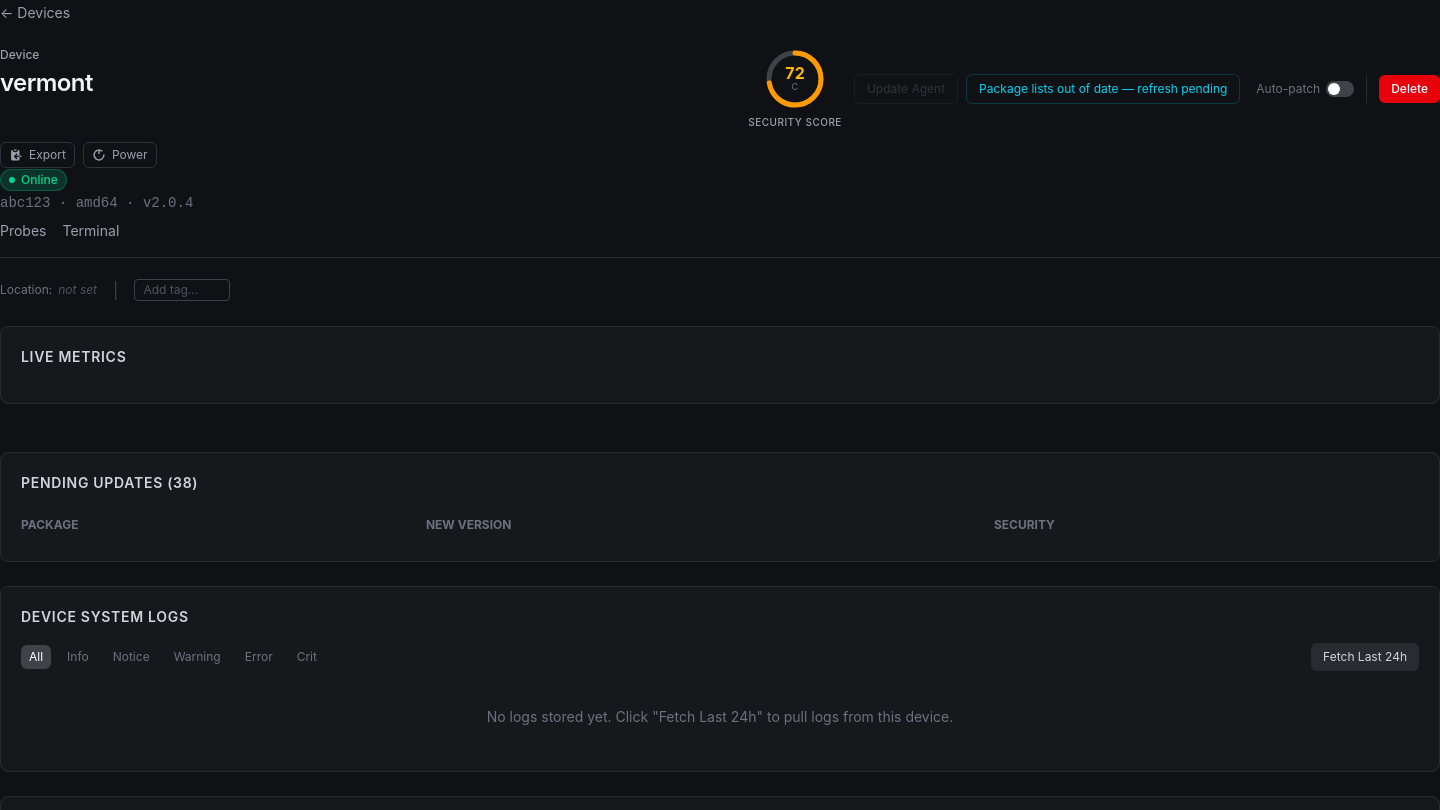
[PATCH-FLOW-001 AC-027] stale package lists › replaces Patch (N) with the stale label, shows no number, and stays usable
Check: the heading "vermont" is shown, box top-left (0, 68), bottom-right (93, 97)
Click the button "Package lists out of date — refresh pending": (1103,88) top-left (966, 74), bottom-right (1240, 104)
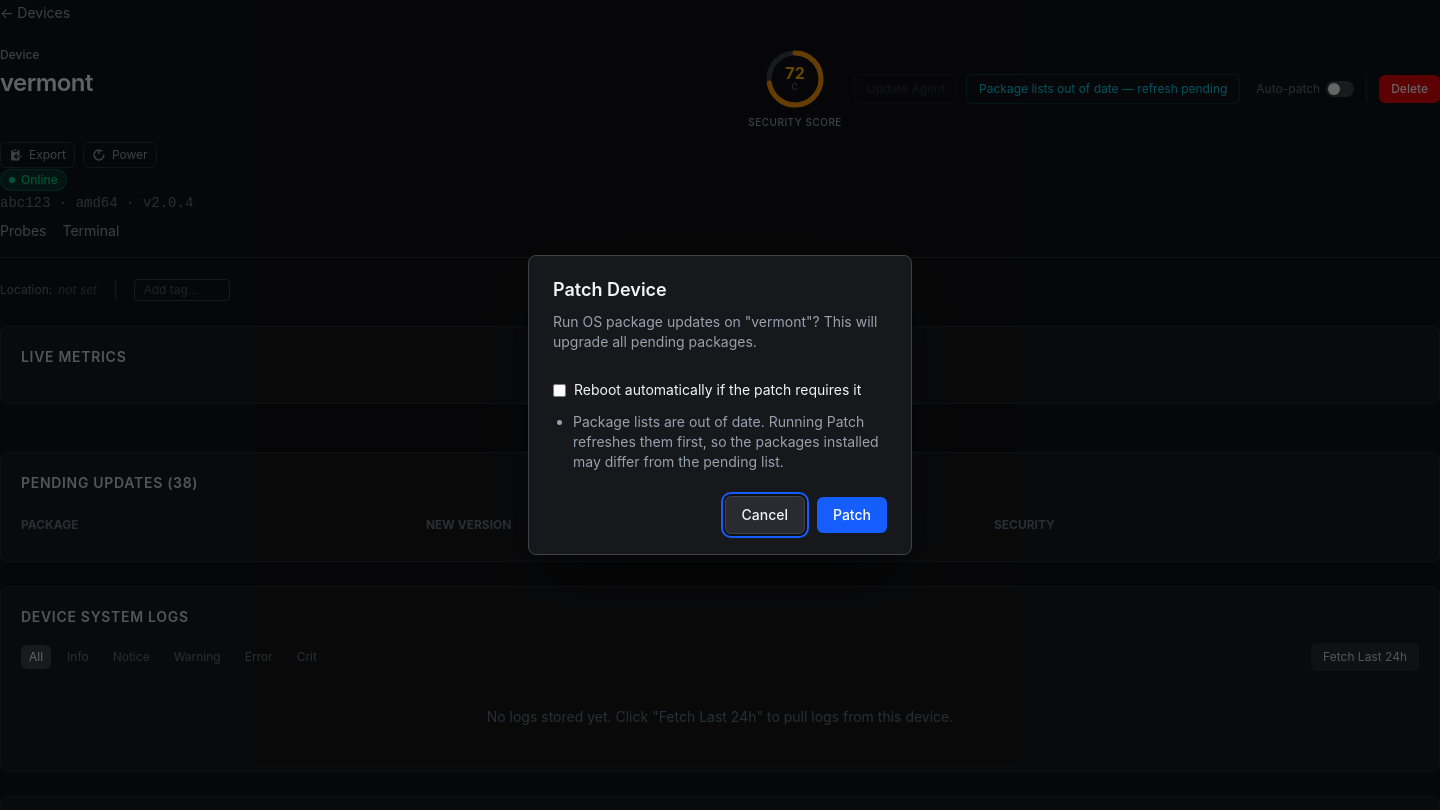
Check: the dialog "Patch Device" is shown, box top-left (528, 255), bottom-right (912, 555)
